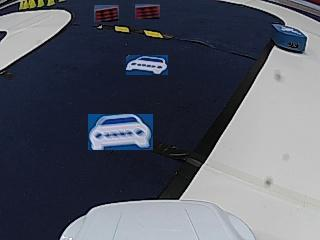prop: (273, 24, 306, 54)
